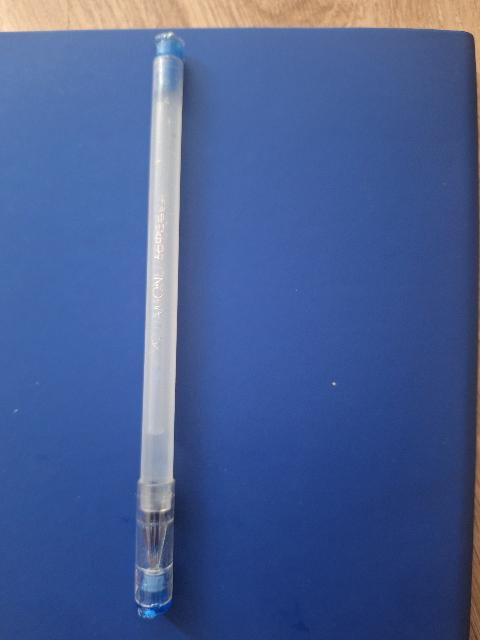writing_tool: (123, 33, 189, 623)
